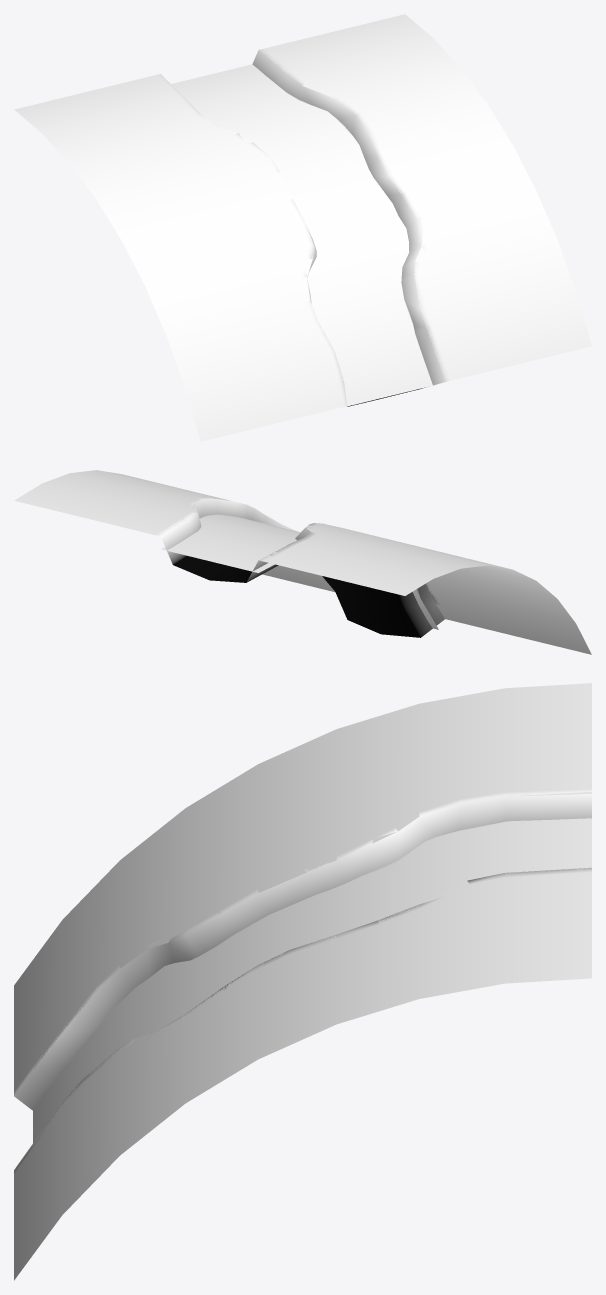
The model's file is grd_Rs_0.dae.
3 views of the same model, one above another, from view 1: azimuth 30°, elevation 25°; view 2: azimuth 150°, elevation 25°; view 3: azimuth 270°, elevation 25° (orthographic). The views are drawn at different scales.
Parts seen in each view (by area): view 1: grd_Rs_0; view 2: grd_Rs_0; view 3: grd_Rs_0.
Boxes of the visible parts, x1=… form: grd_Rs_0: x1=14, y1=14, x2=591, y2=441; grd_Rs_0: x1=14, y1=470, x2=591, y2=654; grd_Rs_0: x1=14, y1=683, x2=591, y2=1280.
Size of the model in its own units: 512 by 264 by 423.
Materials: 4 (1 with a texture image).
